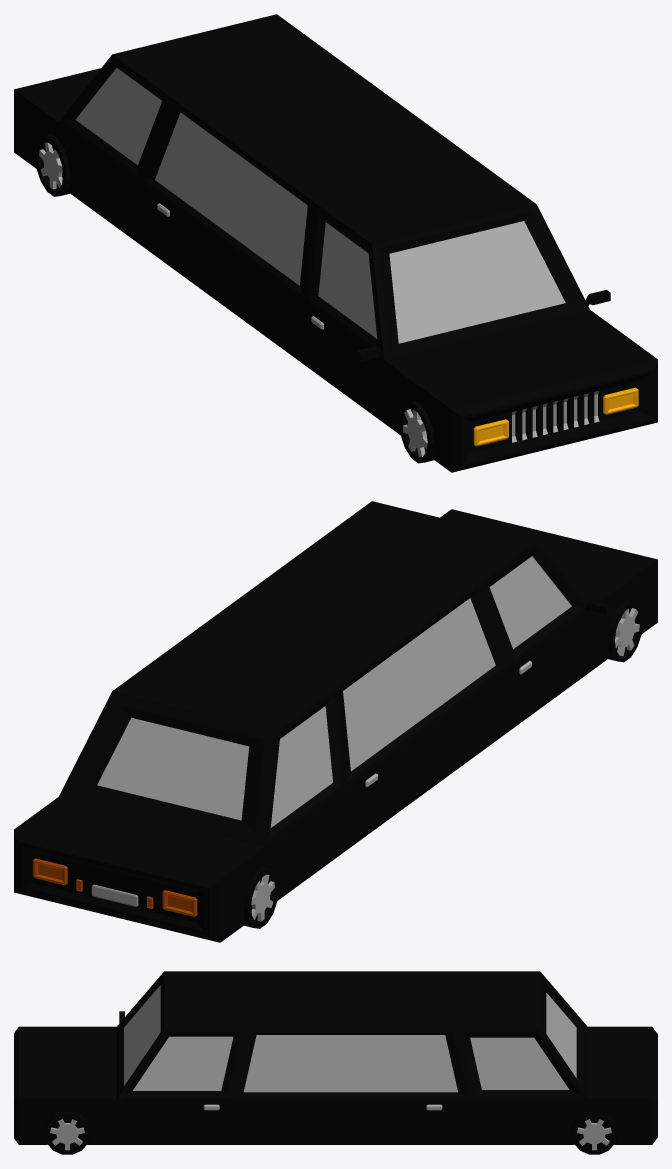
File: br_wheel_8.glb
3 views of the same model, one above another, from view 1: azimuth 30°, elevation 25°; view 2: azimuth 150°, elevation 25°; view 3: azimuth 270°, elevation 25° (orthographic). The views are drawn at different scales.
Visible parts, largest first — view 1: BR WHEEL.013_BODY.025_0; view 2: BR WHEEL.013_BODY.025_0; view 3: BR WHEEL.013_BODY.025_0.
Boxes of the visible parts, x1,y1,x2,y2 form: BR WHEEL.013_BODY.025_0: [14, 14, 657, 472]; BR WHEEL.013_BODY.025_0: [14, 501, 657, 942]; BR WHEEL.013_BODY.025_0: [14, 971, 657, 1154].
Size of the model in its own units: 0.3616 by 0.2233 by 1.11.
1 material, 1 textured.
